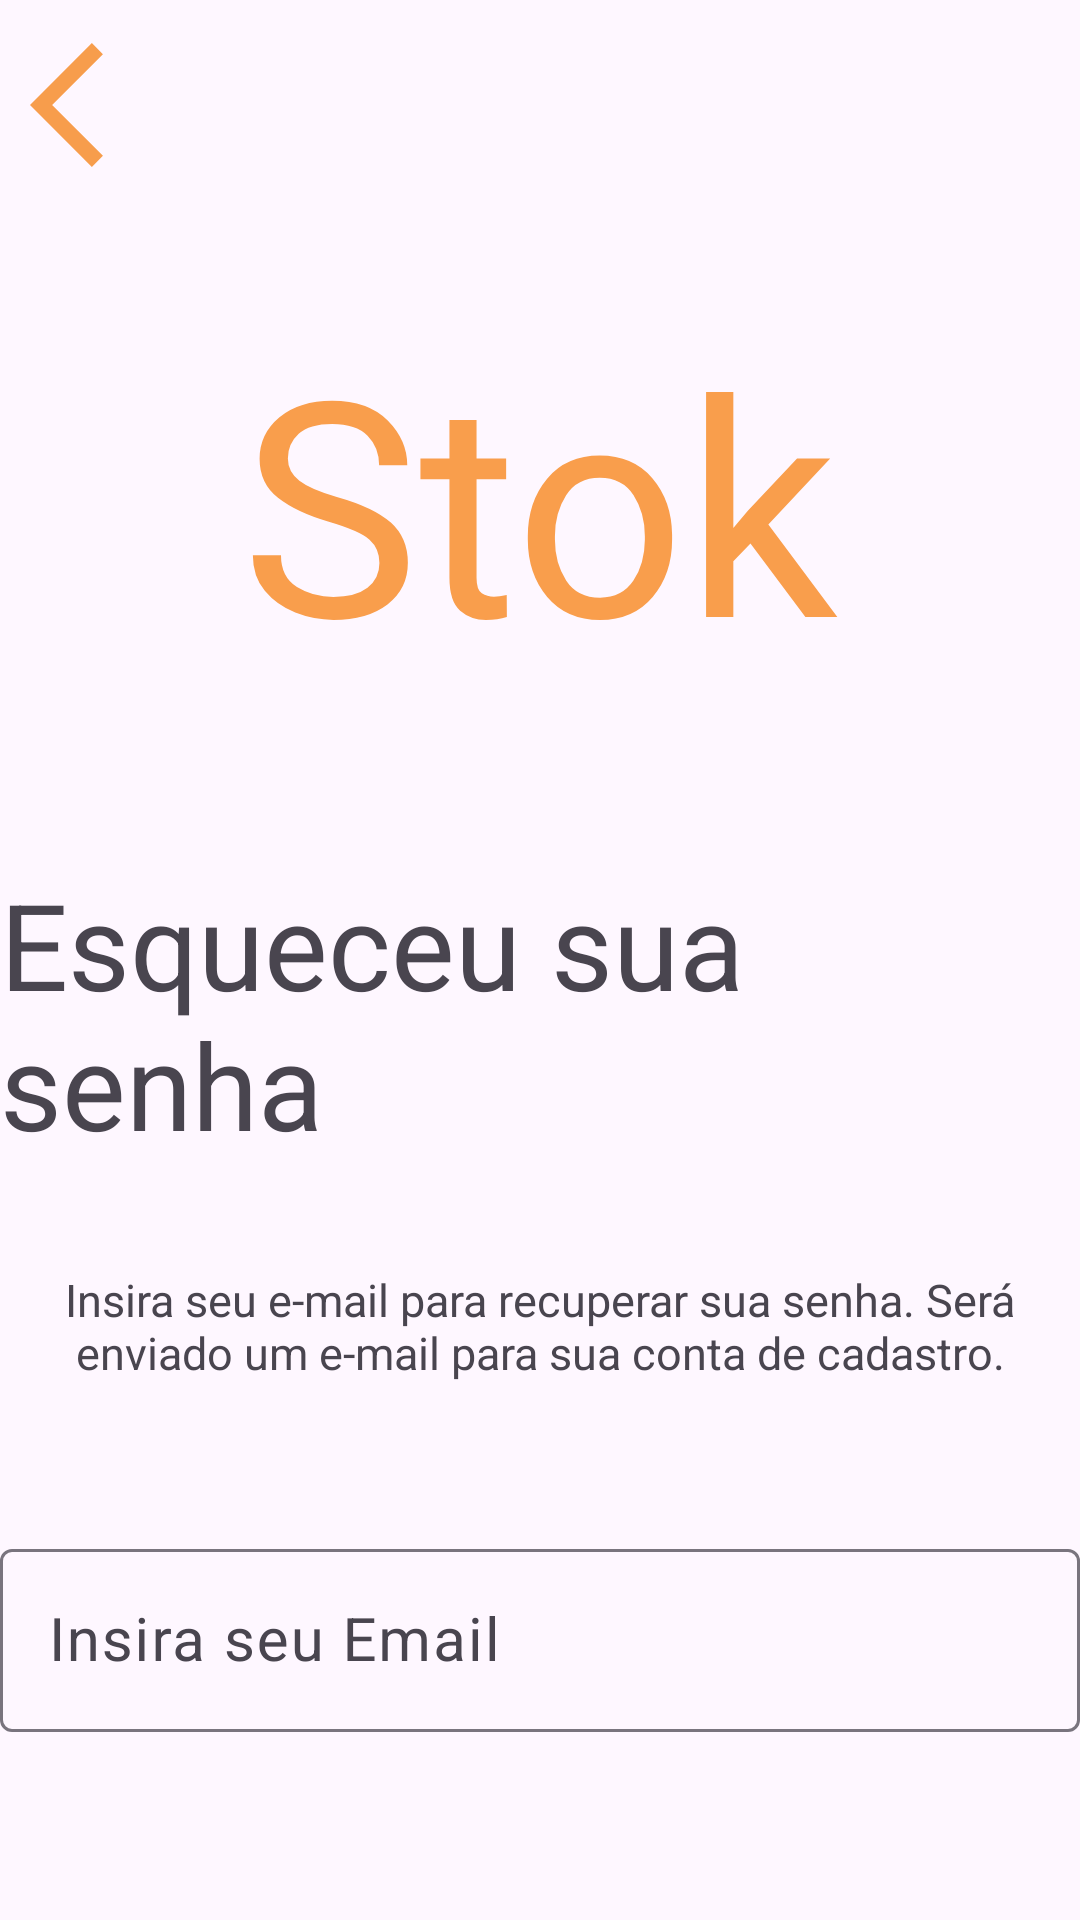

Icon bounding boxes for this 1080 × 1920 phone screenshot, format (x1, y1, x2, y2):
arrow back: (30, 43, 103, 167)
